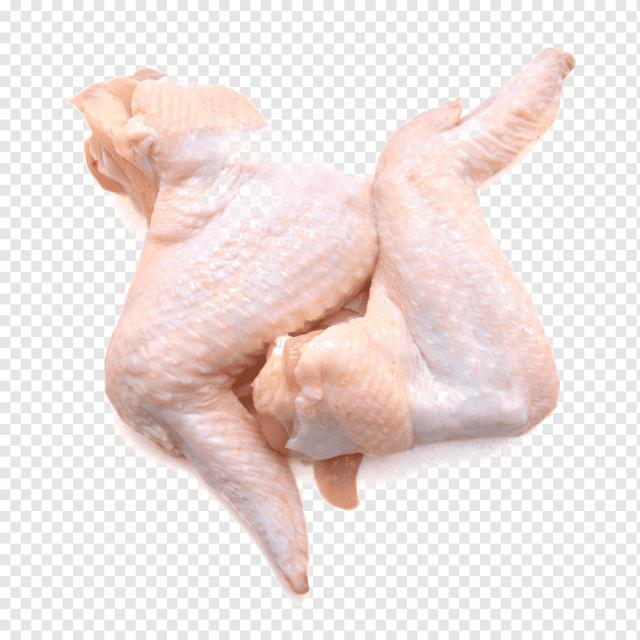Chicken: (71, 45, 579, 596), (73, 68, 376, 592), (254, 53, 575, 459)
